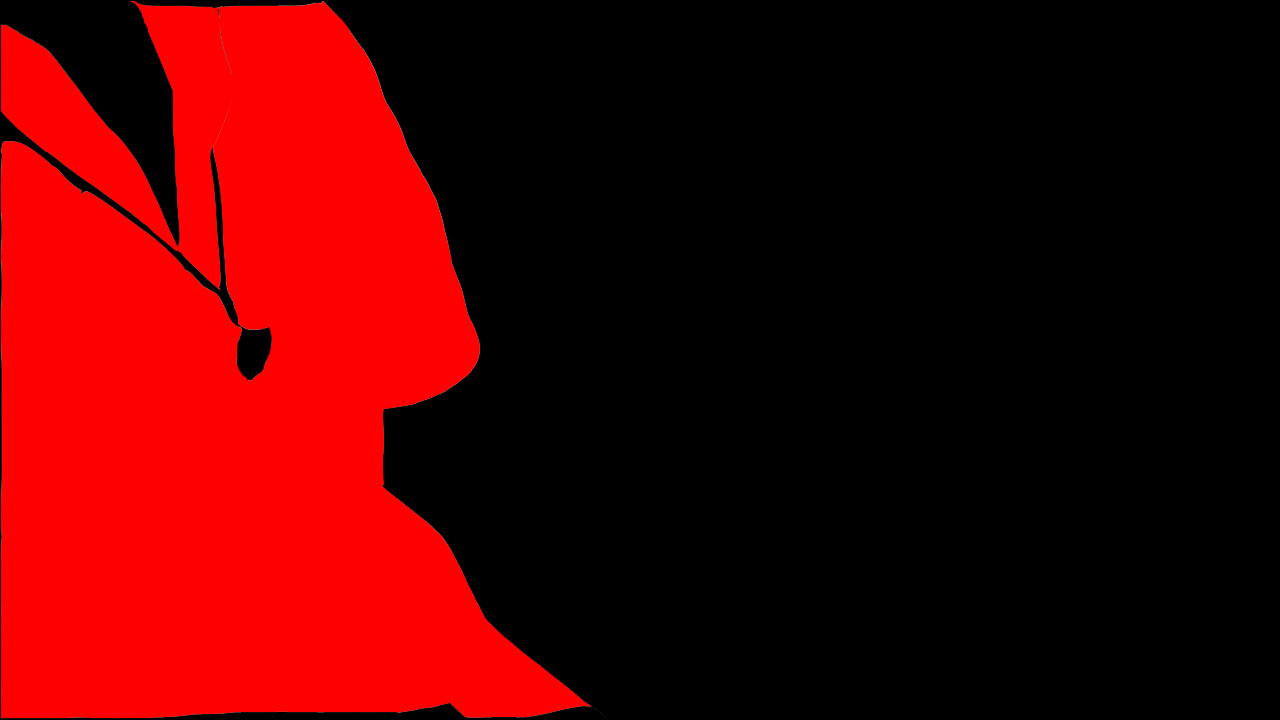uniforme_ifmt: (7, 2, 597, 720)
